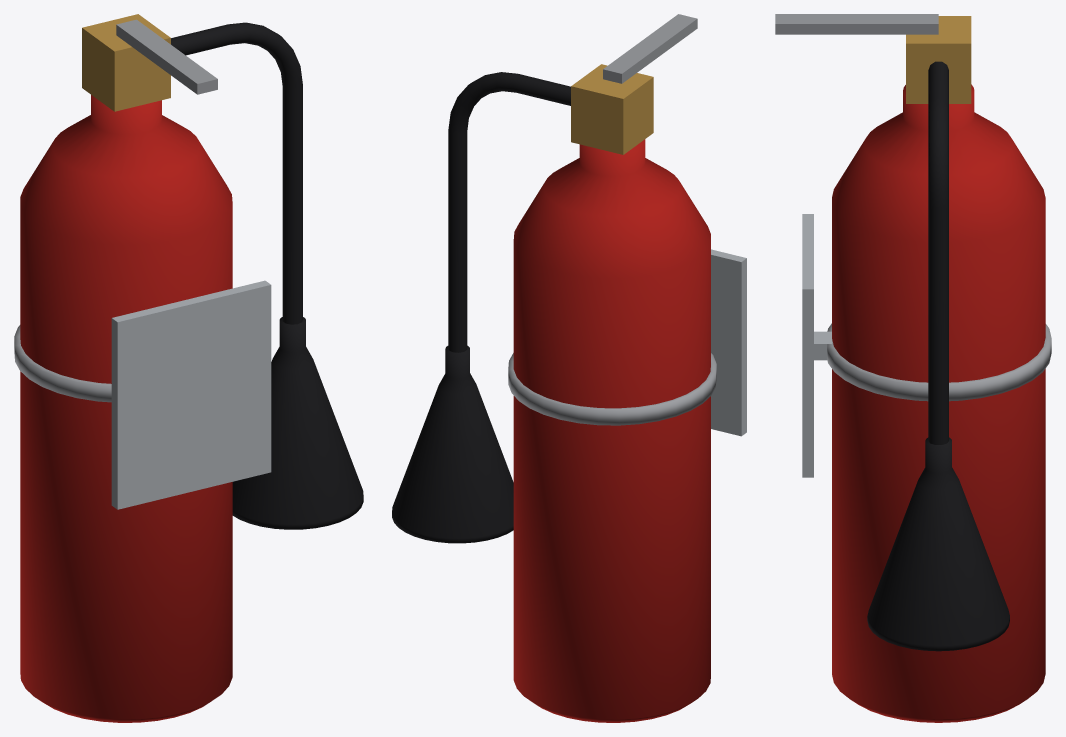
The model's file is co2_sondurucu.glb.
3 views of the same model, side by side, from view 1: azimuth 30°, elevation 25°; view 2: azimuth 150°, elevation 25°; view 3: azimuth 270°, elevation 25° (orthographic). The views are drawn at different scales.
Visible parts, largest first — view 1: Tup, Duvar_Plakasi, Huni_Nozul, Hortum, Valf_Gövde, Tetik_Kolu, Kelepce; view 2: Tup, Huni_Nozul, Hortum, Duvar_Plakasi, Valf_Gövde, Kelepce, Tetik_Kolu; view 3: Tup, Huni_Nozul, Hortum, Valf_Gövde, Kelepce, Tetik_Kolu, Duvar_Plakasi, Braket_Kol.
Boxes of the visible parts, x1,y1,x2,y2 form: Tup: (20, 95, 232, 722); Duvar_Plakasi: (111, 280, 271, 509); Huni_Nozul: (232, 317, 363, 529); Hortum: (171, 22, 302, 324); Valf_Gövde: (82, 14, 170, 111); Tetik_Kolu: (116, 19, 217, 94); Kelepce: (14, 325, 111, 402); Tup: (513, 139, 710, 722); Huni_Nozul: (392, 345, 513, 543); Hortum: (448, 72, 570, 352); Duvar_Plakasi: (711, 249, 746, 436); Valf_Gövde: (571, 64, 653, 154); Kelepce: (508, 353, 716, 425); Tetik_Kolu: (603, 14, 697, 83); Tup: (832, 84, 1045, 722); Huni_Nozul: (867, 437, 1009, 651); Hortum: (928, 61, 948, 444); Valf_Gövde: (906, 16, 971, 103); Kelepce: (827, 323, 1051, 401); Tetik_Kolu: (775, 14, 938, 34); Duvar_Plakasi: (802, 214, 813, 477); Braket_Kol: (814, 331, 831, 360).
Size of the model in its own units: 0.254 by 0.493 by 0.186.
